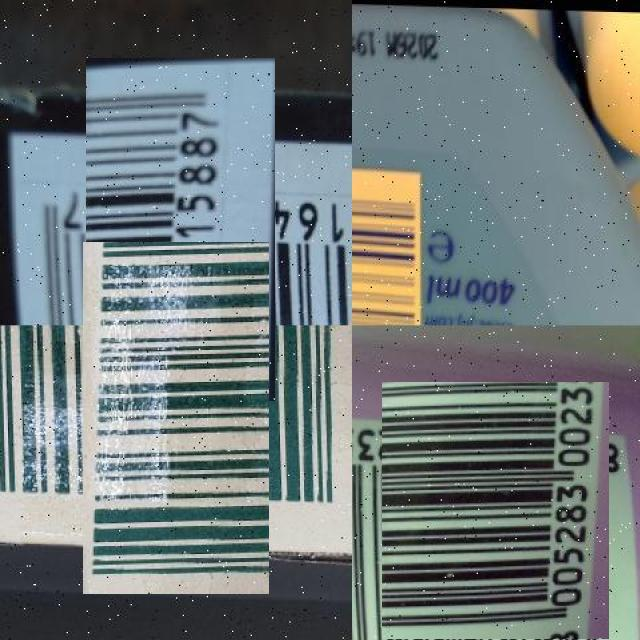Barcode: (41, 284, 311, 553), (47, 97, 314, 363), (366, 397, 624, 640), (352, 163, 427, 325)
